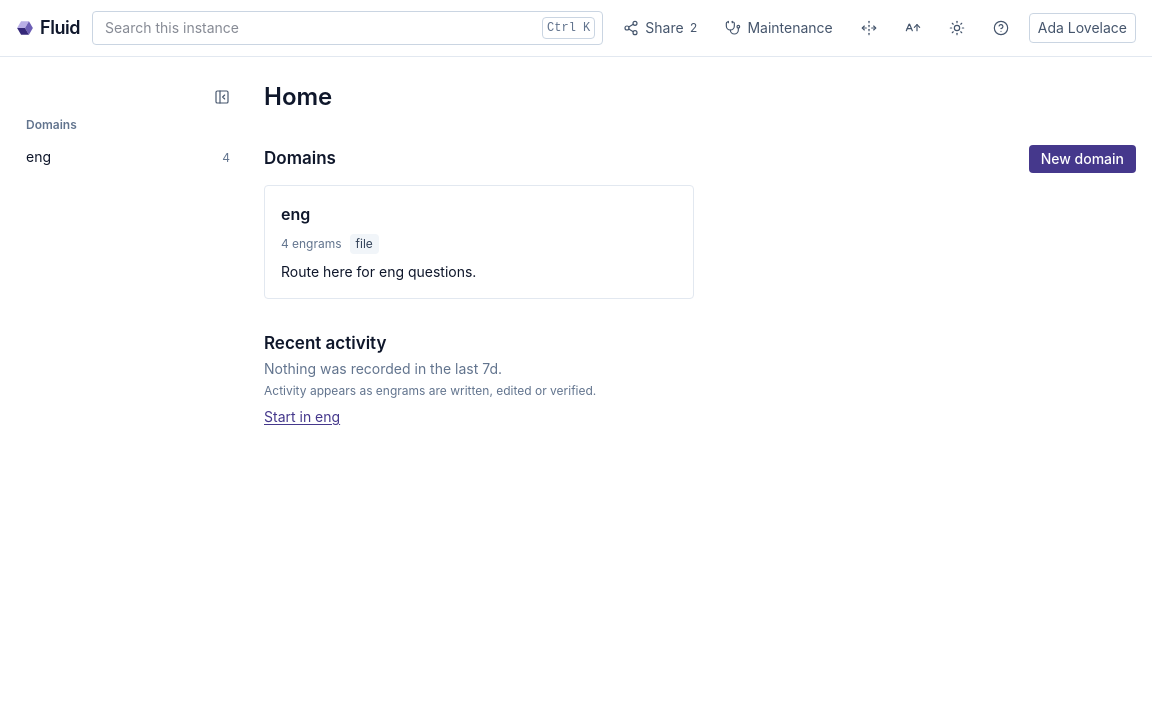
Test case: the top bar's share action › asks which domain when the reader is not standing in one
Expected: the heading "Home" is shown, [264,82,332,111]
Click the button with aria-label "Share changes" at (660, 28), box [615,12,705,44]
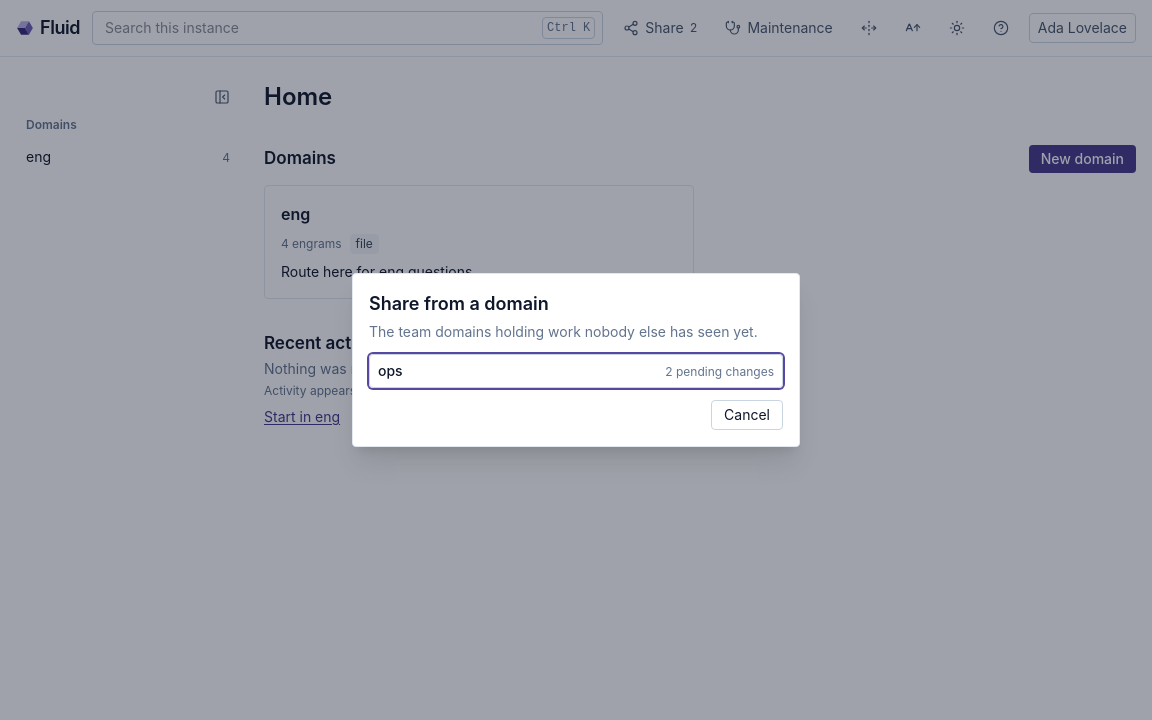
Click the button with aria-label "ops - 2 pending changes" at (720, 372), box [369,354,783,388]
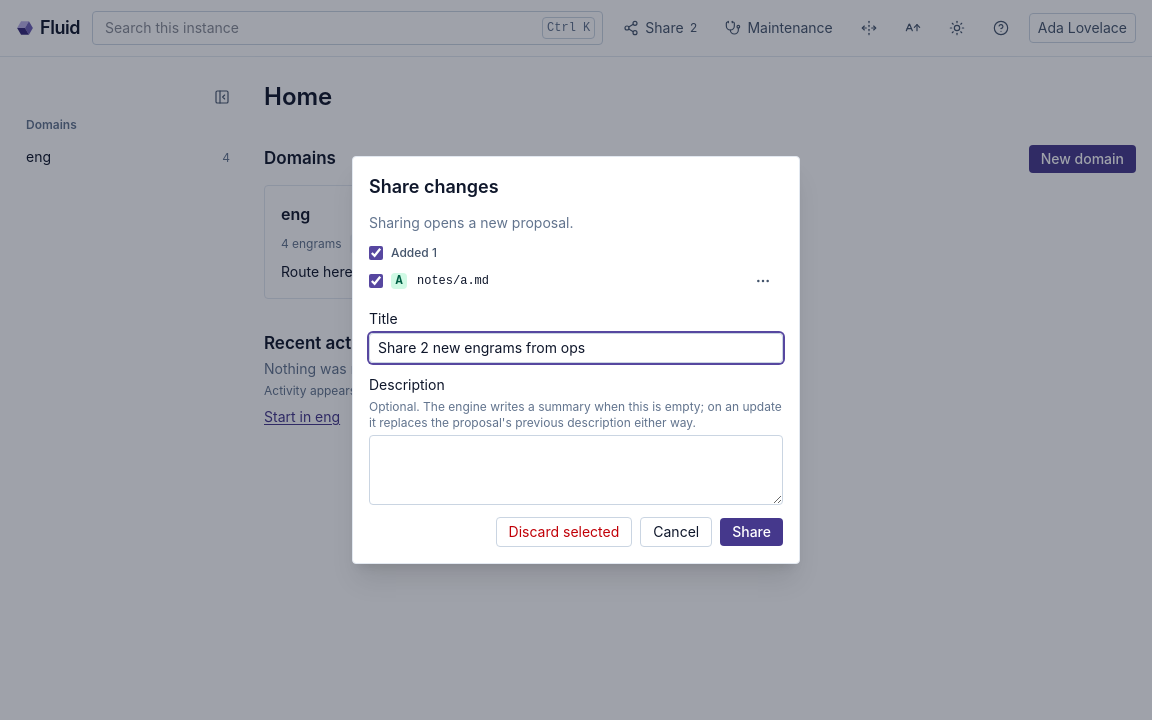
Now the text "Sharing opens a new proposal." is shown, box [369,214,574,231]
Now the heading "Share from a domain" is gone
